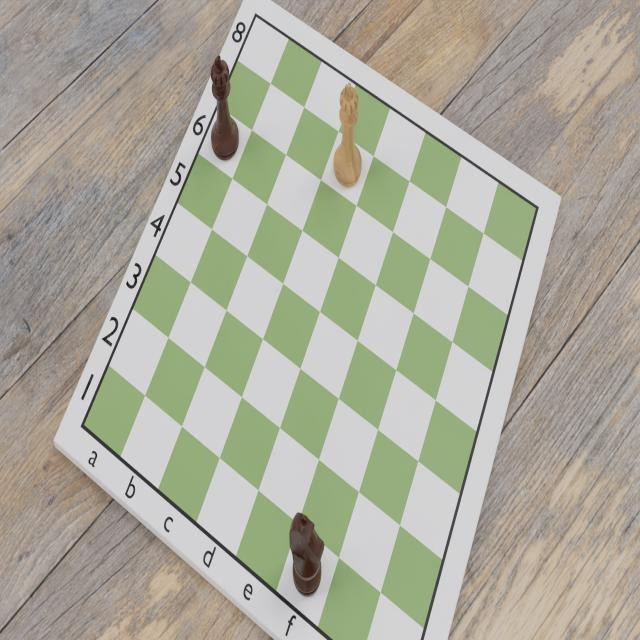black-king: (210, 54, 241, 162)
black-knight: (289, 508, 324, 600)
white-king: (332, 77, 363, 190)
